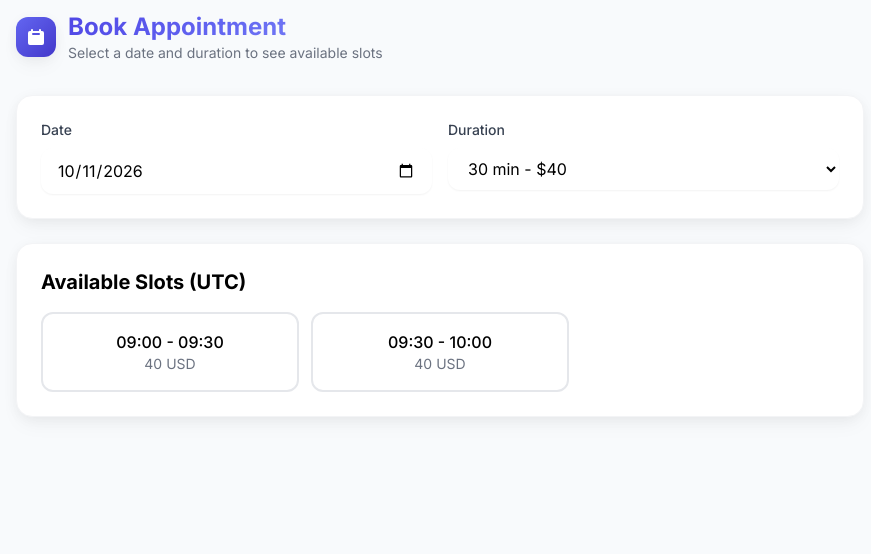
Scenario: SlotExplorer › should drop the picked slot when the duration changes, so a slot that is no longer shown is not booked
The image size is (871, 554).
Click the button "09:00 - 09:30 40 USD" at {"x": 170, "y": 352}, box [41, 312, 299, 392]
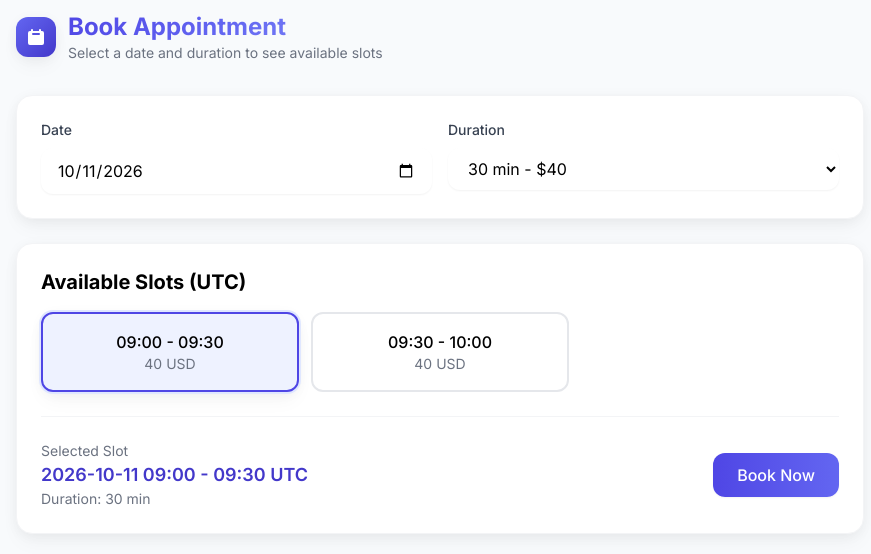
Now the button "Book Now" is shown, box [713, 453, 839, 497]
Select "60 min - $70" in the dropdown at {"x": 644, "y": 169}, box [448, 148, 839, 190]
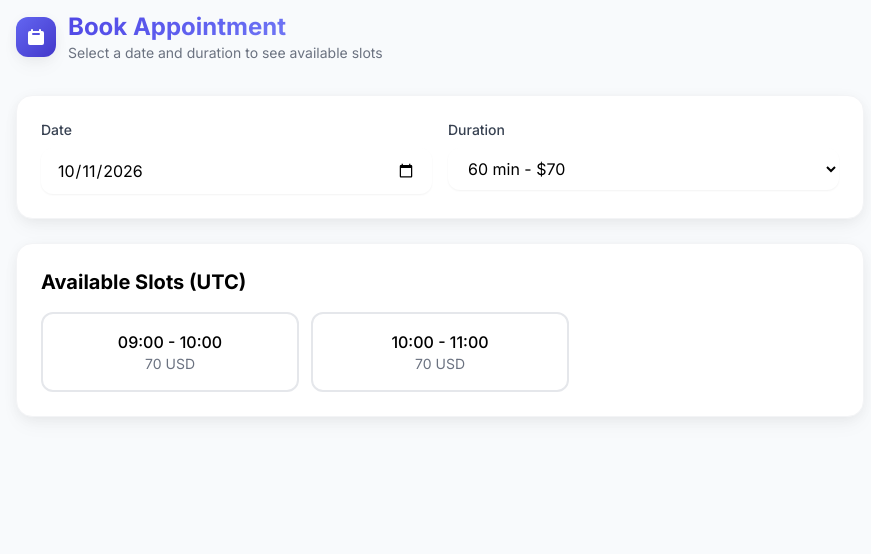
Now the button "Book Now" is gone
